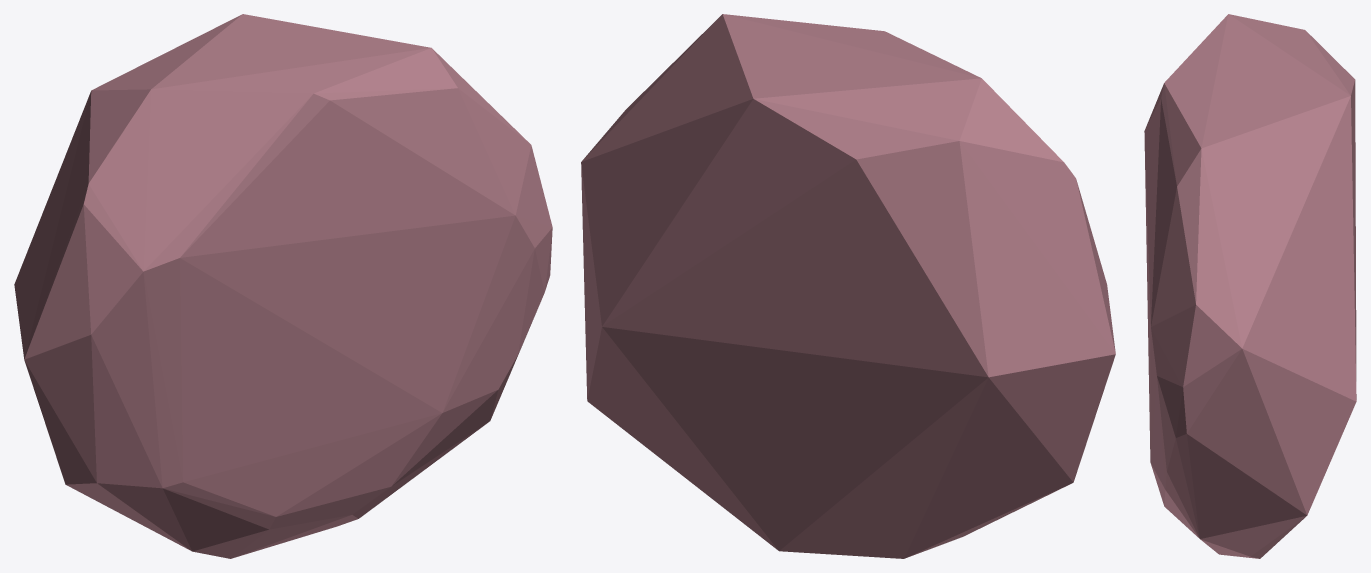
Rendered from food_prepared_donut_g01.glb.
The picture shows the model from 3 angles, left to right: view 1: azimuth 30°, elevation 25°; view 2: azimuth 150°, elevation 25°; view 3: azimuth 270°, elevation 25°; orthographic projection. The views are drawn at different scales.
Parts seen in each view (by area): view 1: geometry_0; view 2: geometry_0; view 3: geometry_0.
Part boxes in pixels (x1,y1,x2,y2): geometry_0: (14, 14, 552, 558); geometry_0: (581, 14, 1115, 558); geometry_0: (1144, 14, 1356, 558).
Size of the model in its own units: 0.4663 by 0.4286 by 0.1782.
